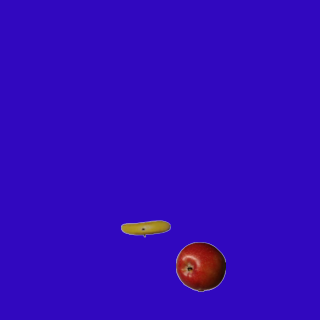Apple Braeburn: (175, 241, 225, 291)
Banana: (120, 203, 170, 253)
